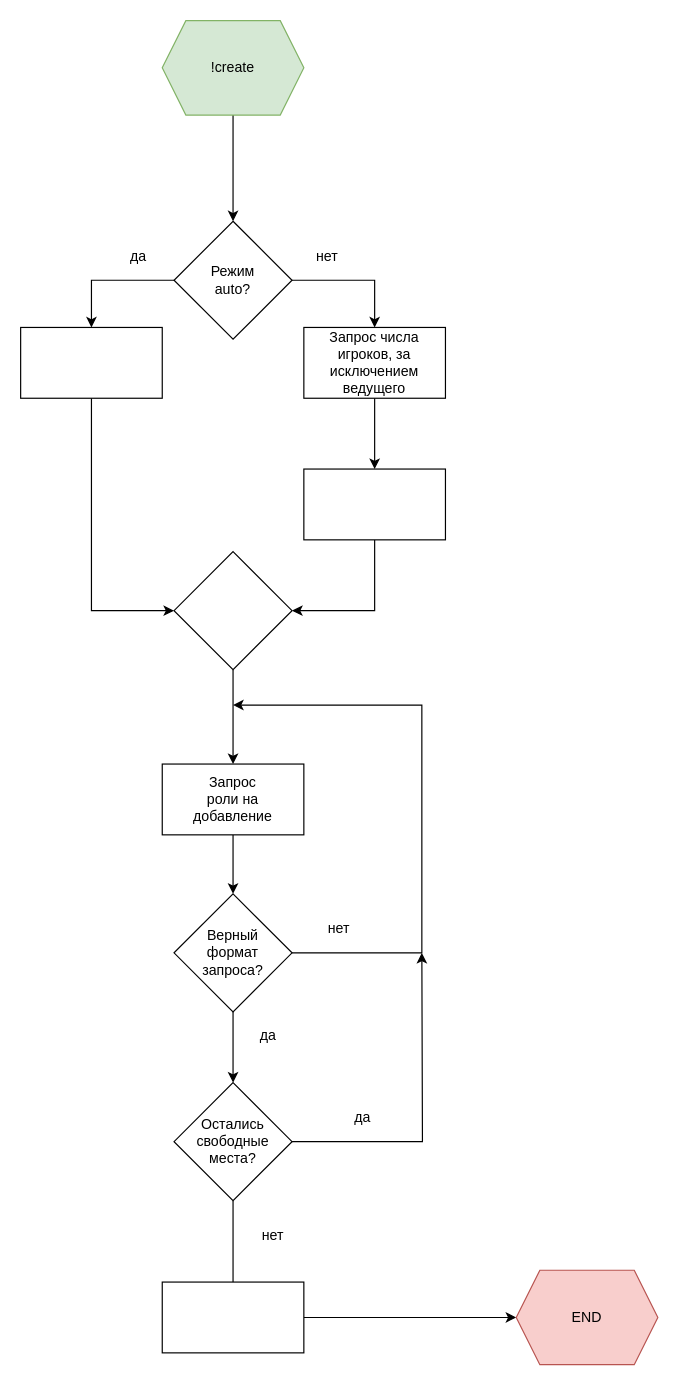
Image size: 679x1385. Some labels were removed from this diagram. Each missing label, with the centre of its shape:
"Запрос числа игроков" goes at (90,362).
"Назначение ведущего" goes at (374,504).
"Отправить пул ролей" goes at (232,1317).
